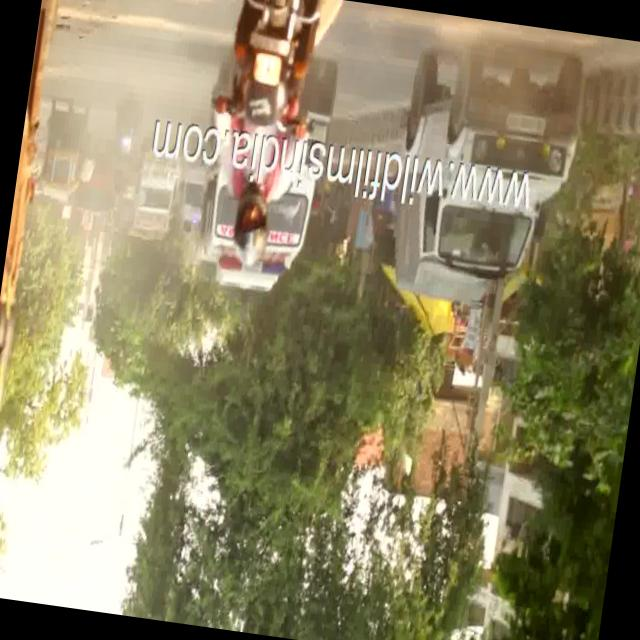ambulance: (197, 149, 302, 298)
